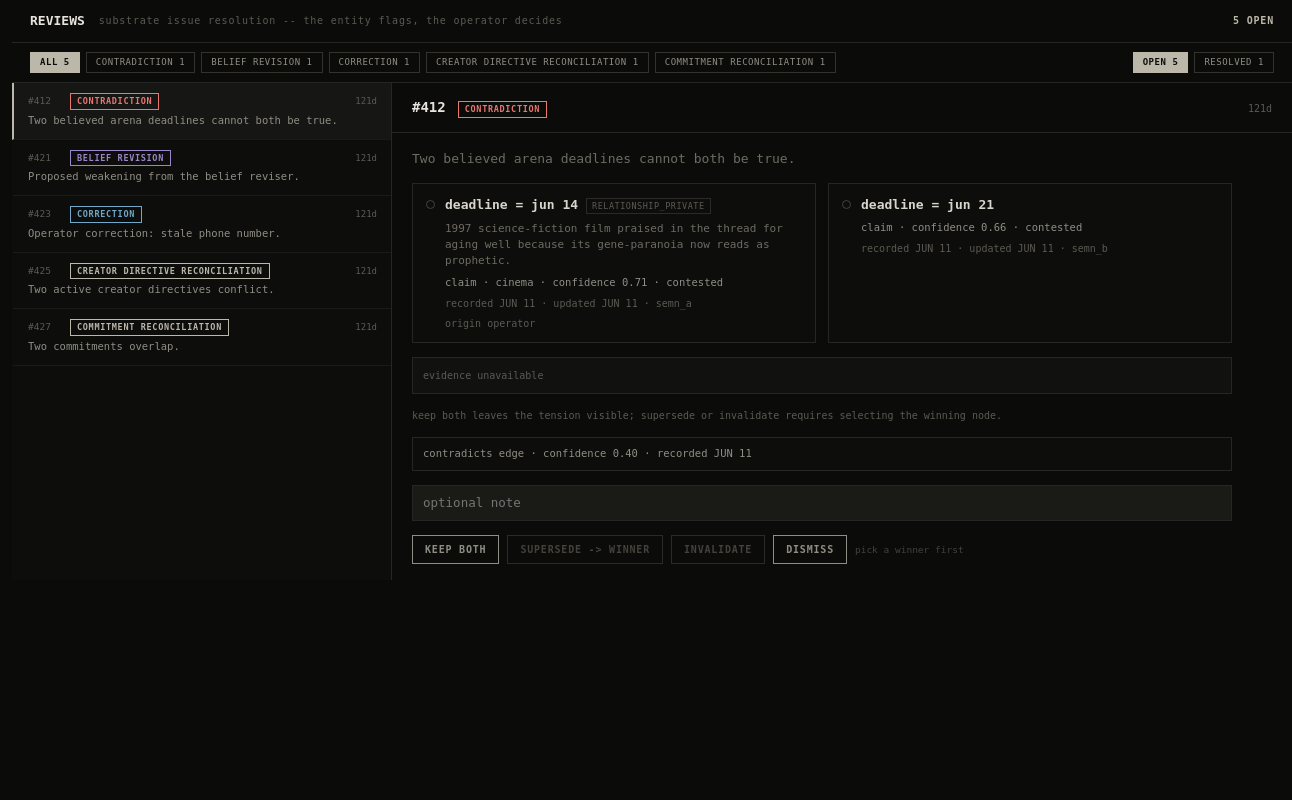
Test: Reviews page › keeps node-pair degraded evidence quiet
Expected: the text "evidence unavailable" is shown, [412, 357, 1232, 394]
Click the button "RESOLVED 1": (1234, 62) [1194, 52, 1274, 73]
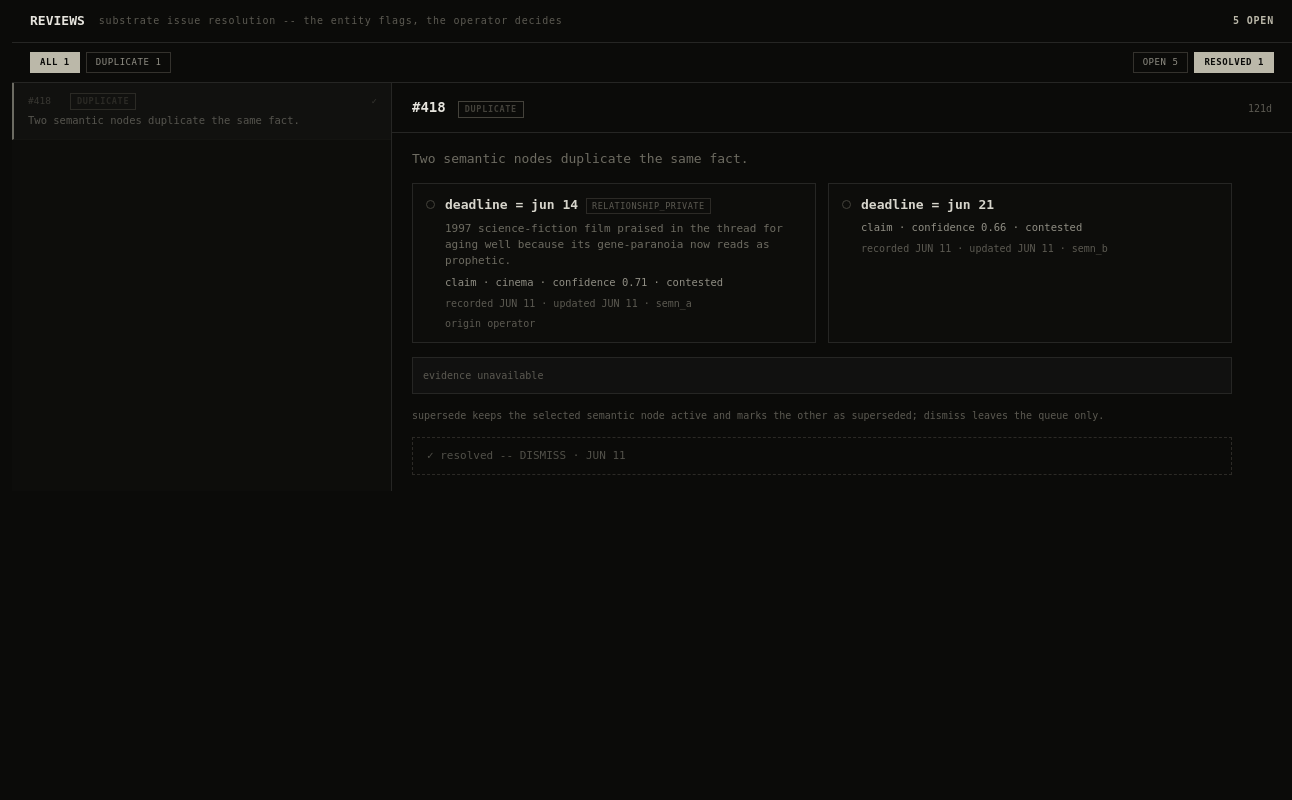
Result: the text "Two semantic nodes duplicate the same fact." is shown 2 times at [28, 114, 300, 126]; [412, 151, 748, 166]
Result: the text "edge · confidence" is gone
